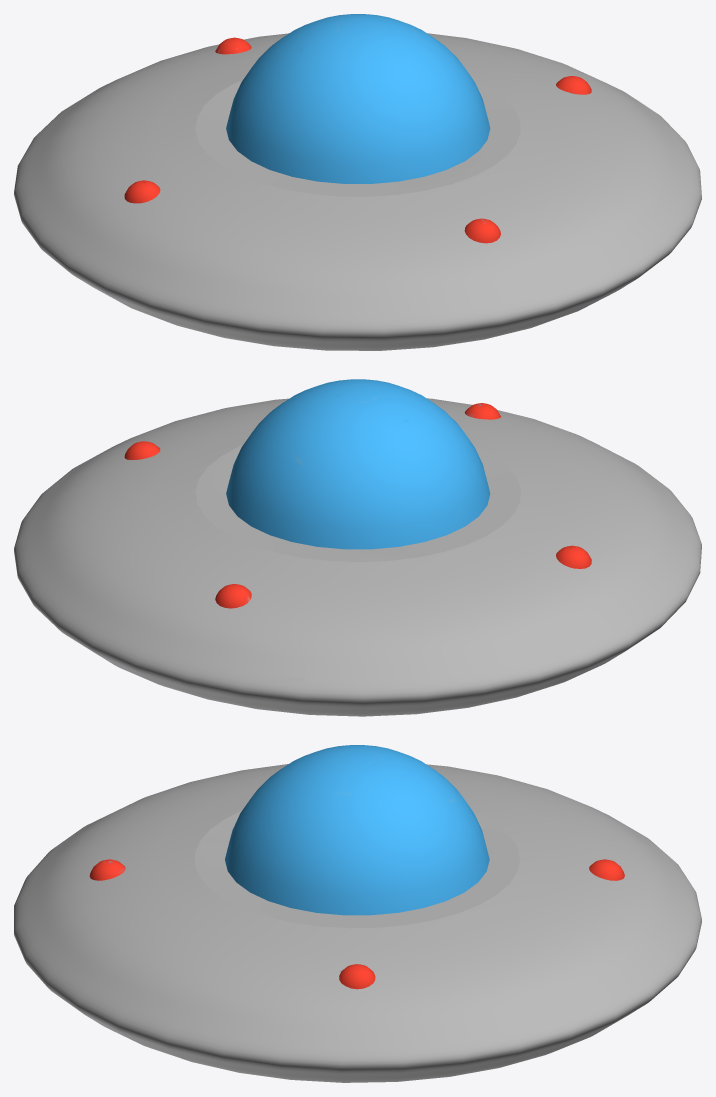
The model's file is ufo.obj.
The picture shows the model from 3 angles, top to bottom: view 1: azimuth 30°, elevation 25°; view 2: azimuth 150°, elevation 25°; view 3: azimuth 270°, elevation 25°; orthographic projection.
Parts seen in each view (by area): view 1: Ufo; view 2: Ufo; view 3: Ufo.
Part boxes in pixels (x1=…): Ufo: x1=14, y1=14, x2=701, y2=350; Ufo: x1=14, y1=379, x2=701, y2=716; Ufo: x1=14, y1=745, x2=701, y2=1082.
Bounding box in the file's own units: 50.3 × 18.18 × 50.16.
